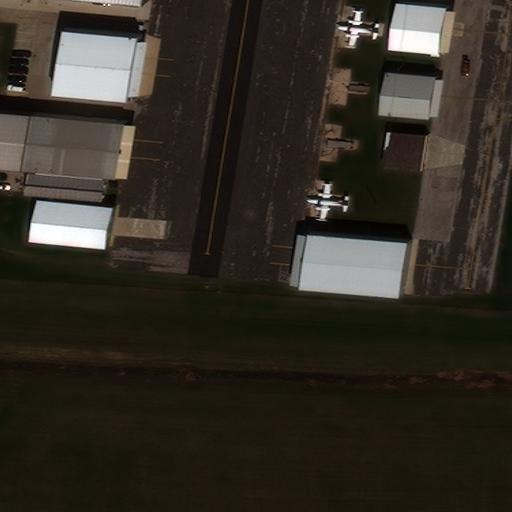Small Civil Transport: (337, 10, 379, 49), (306, 183, 348, 221)
